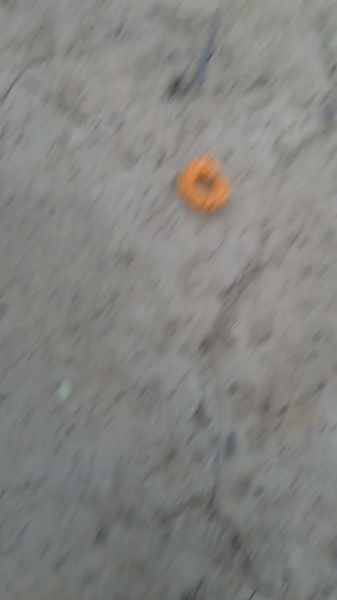eggs: (174, 150, 229, 212)
